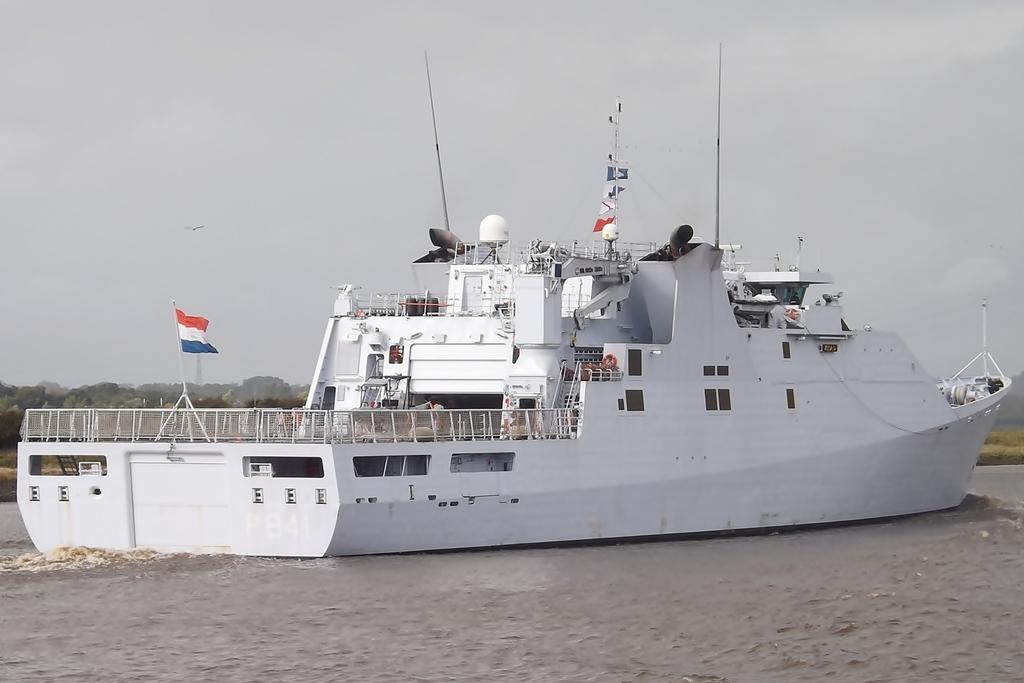Warship: (0, 198, 1020, 554)
